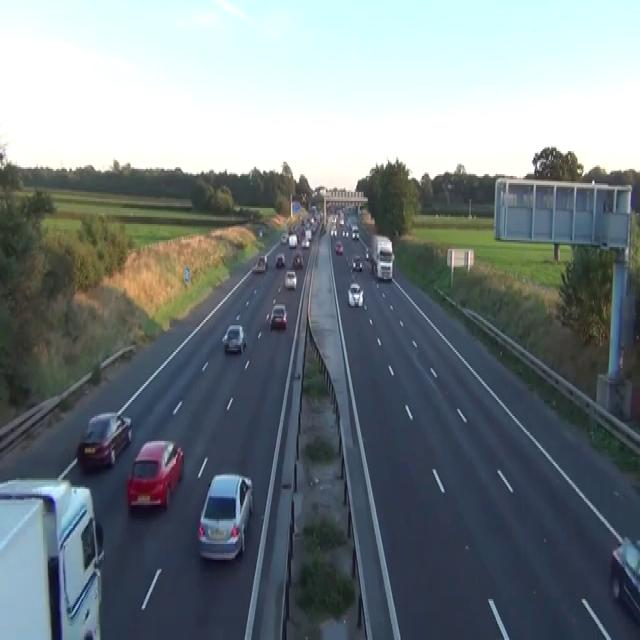Car: (197, 473, 253, 560), (126, 439, 184, 512), (77, 411, 132, 469), (610, 535, 639, 622), (221, 324, 247, 354), (269, 304, 287, 329), (347, 282, 363, 306), (284, 270, 297, 290), (252, 256, 267, 272), (351, 252, 362, 270), (292, 252, 303, 268), (258, 254, 268, 270), (275, 252, 285, 266), (334, 240, 343, 254), (288, 233, 297, 247), (280, 231, 288, 244), (301, 236, 309, 249), (351, 228, 359, 240), (365, 246, 370, 260), (330, 226, 337, 236), (305, 228, 312, 238), (341, 228, 348, 236), (339, 217, 344, 226), (331, 215, 336, 224), (259, 228, 262, 236)
Truck: (0, 476, 104, 638), (370, 233, 394, 281)
